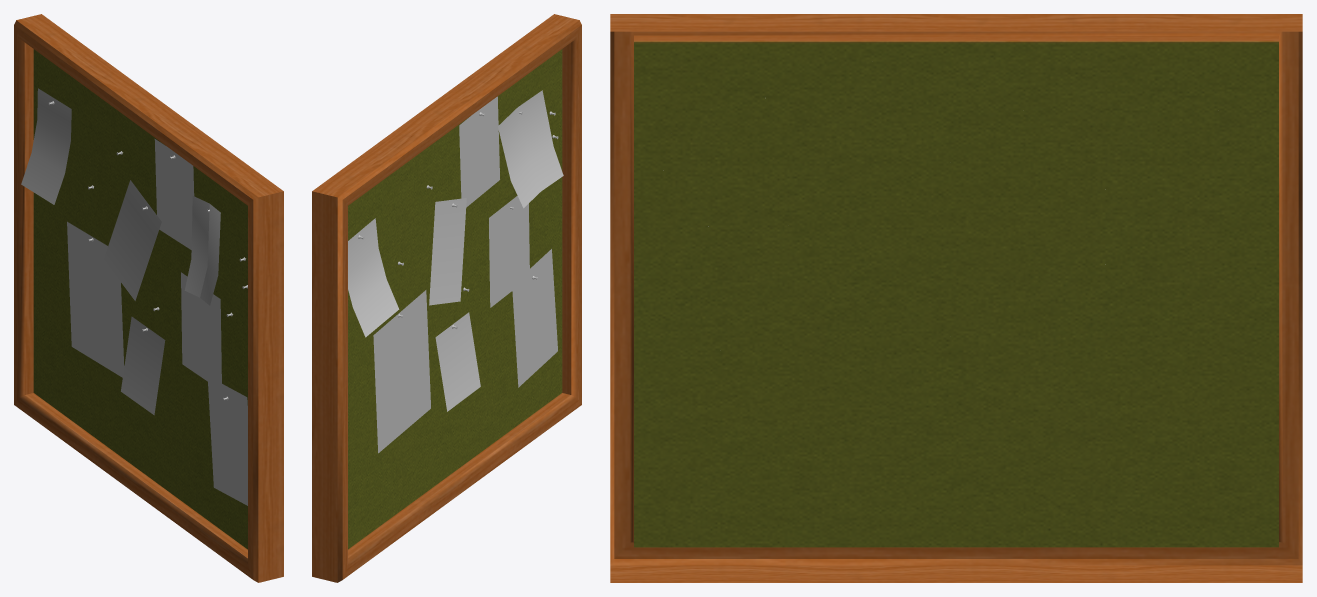
Rendered from Paper_Board.fbx.
3 views of the same model, side by side, from view 1: azimuth 30°, elevation 25°; view 2: azimuth 150°, elevation 25°; view 3: azimuth 270°, elevation 25° (orthographic). The views are drawn at different scales.
Parts seen in each view (by area): view 1: Paper_Board; view 2: Paper_Board; view 3: Paper_Board.
Boxes of the visible parts, x1=… form: Paper_Board: x1=14, y1=14, x2=283, y2=582; Paper_Board: x1=312, y1=14, x2=581, y2=582; Paper_Board: x1=610, y1=14, x2=1302, y2=582.
Size of the model in its own units: 14.14 by 125 by 143.
